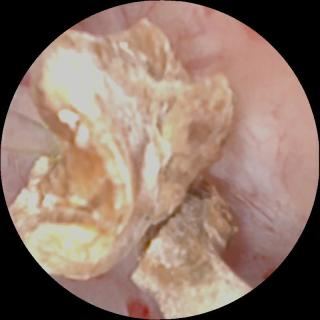stone: (11, 20, 234, 279), (132, 183, 248, 317)
tissue: (97, 2, 312, 277)
